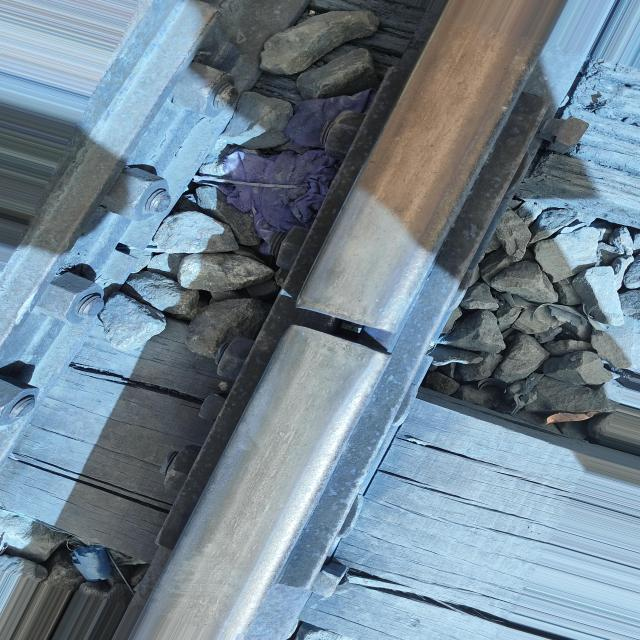crack: (261, 274, 420, 375)
